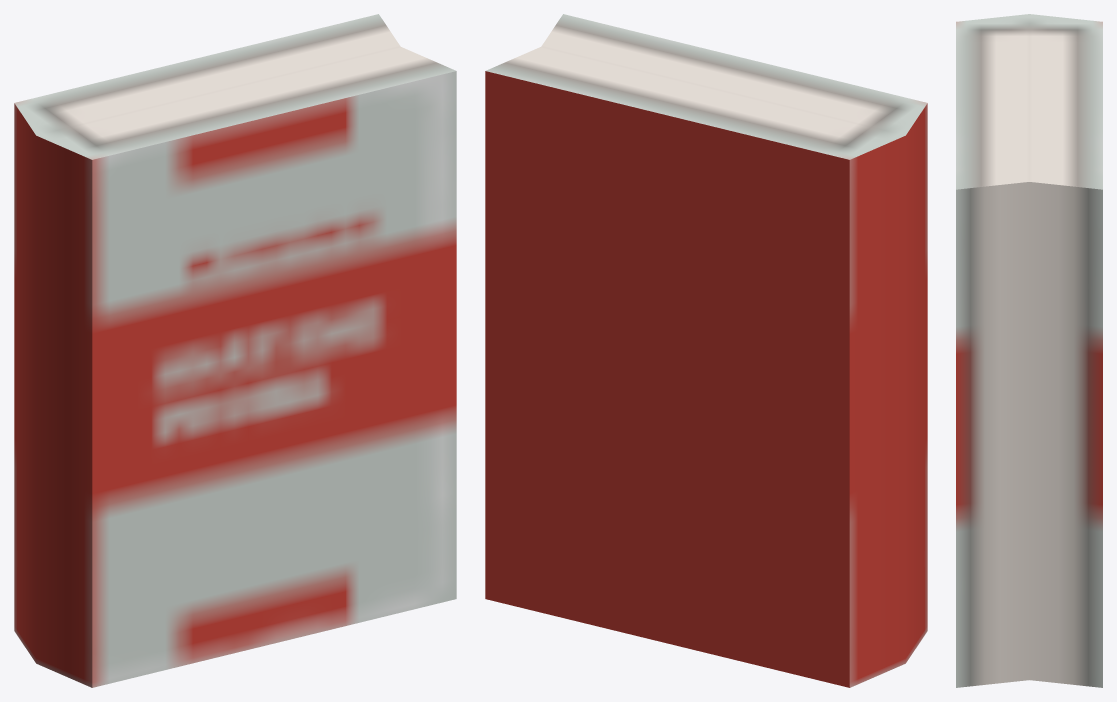
The model's file is TNP0110016.FBX.
3 views of the same model, side by side, from view 1: azimuth 30°, elevation 25°; view 2: azimuth 150°, elevation 25°; view 3: azimuth 270°, elevation 25° (orthographic). The views are drawn at different scales.
Parts seen in each view (by area): view 1: smTNP0110016; view 2: smTNP0110016; view 3: smTNP0110016.
Boxes of the visible parts, box(x1,y1,x2,y2) form: smTNP0110016: box(14, 14, 456, 687); smTNP0110016: box(485, 14, 927, 687); smTNP0110016: box(956, 14, 1102, 687).
Size of the model in its own units: 19.76 by 26.13 by 6.99.
Materials: 1 (1 with a texture image).
